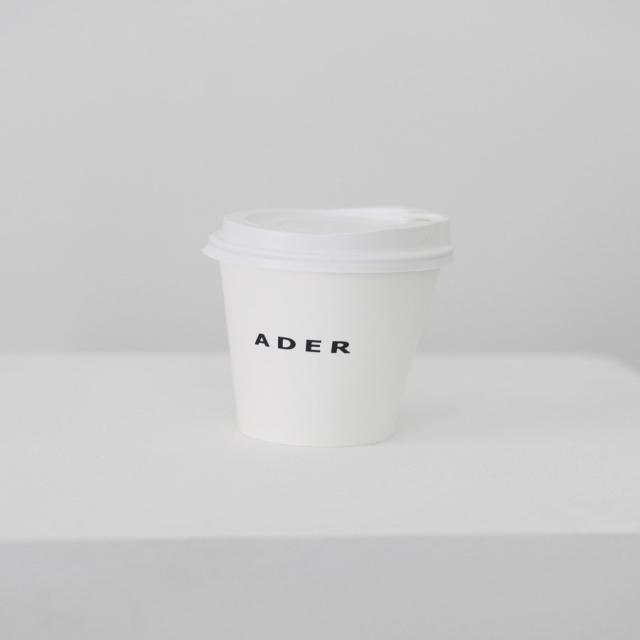paper cup: (202, 206, 456, 448)
